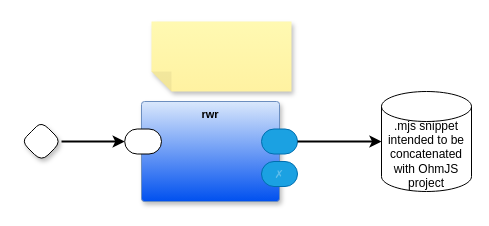
Some shapes in this 489 by 226 pixel diagram are drawn without their labels. Here are the shapes that lost their labels. From the top down, the centre of each, then its label:
[222,57]: convert .rewrite file to .mjs snippet
[42,142]: .rewrite
